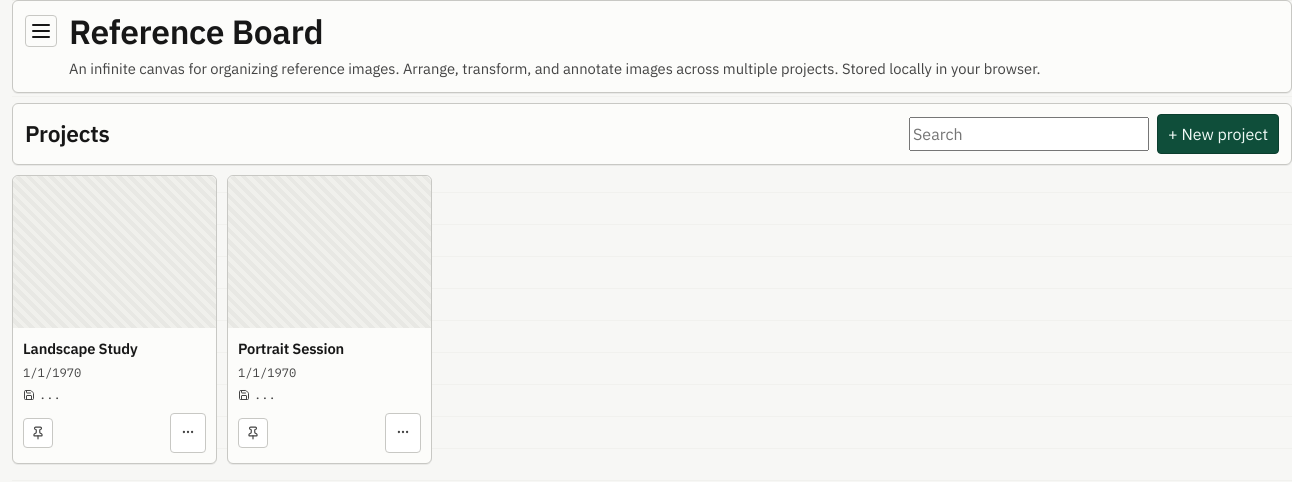
ReferenceBoardPage › filters projects by project name
This screenshot has width=1292, height=482.
Type "portrait" into the search field named "search projects" at (1029, 134), box [909,117,1149,151]
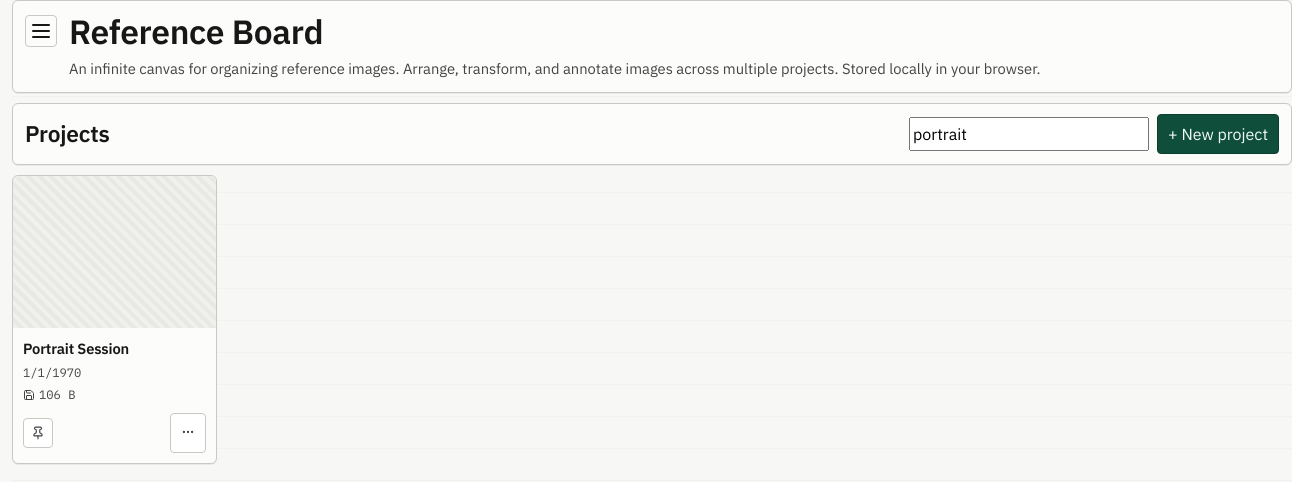
Check: the heading "Portrait Session" is shown, box [23,338,129,360]
Check: the heading "Landscape Study" is gone
